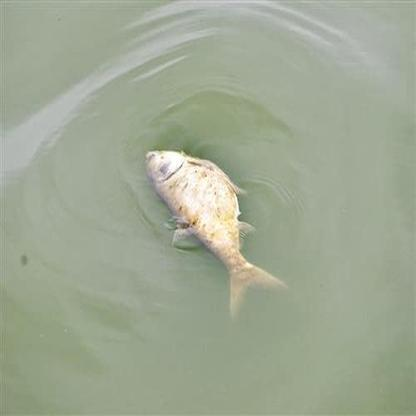deceased fish: (137, 147, 286, 314)
